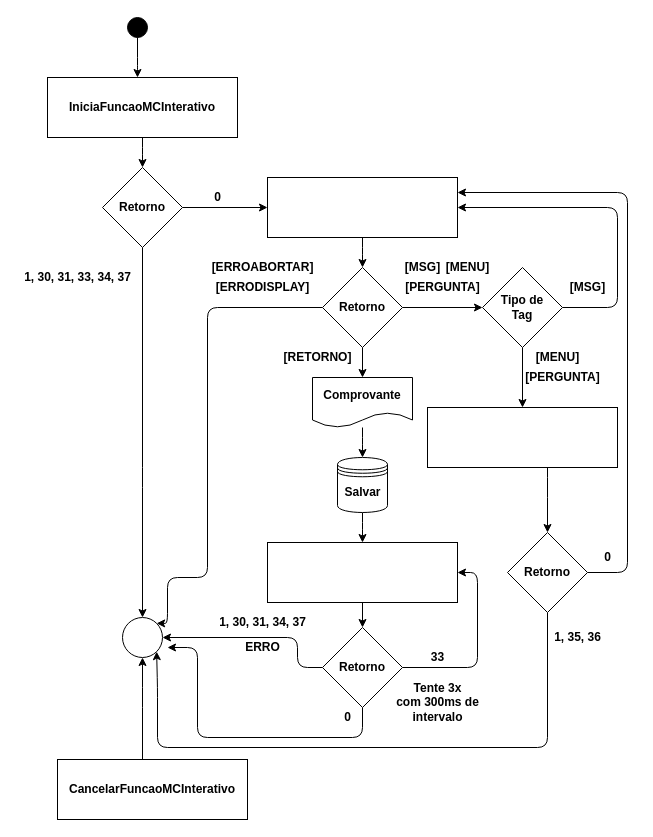
The diagram is 653 pixels wide and 837 high, and some of its shapes have lost their labels. The shapes that lost their labels are listed below. From the top down, each one's box as (x1, y1, x2, y2) in pixels, then its label:
(266, 176, 458, 238): AguardaFuncaoMCInterativo
(426, 406, 618, 468): ContinuaFuncaoMCInterativo
(266, 542, 458, 602): FinalizaFuncaoMCInterativo
(122, 616, 162, 658): Fim
